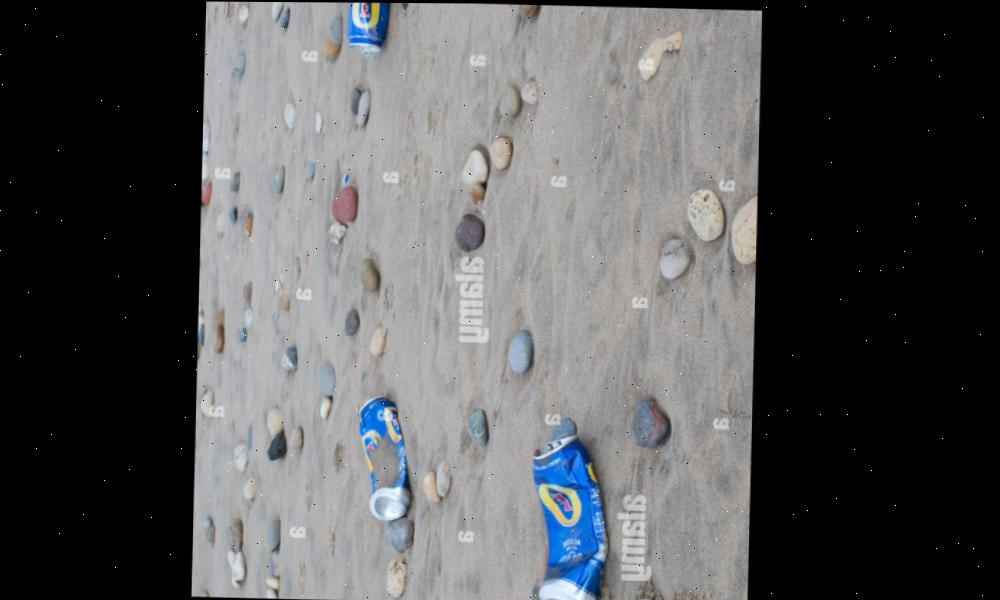can: (520, 417, 610, 600), (346, 378, 426, 523), (336, 2, 396, 61)
